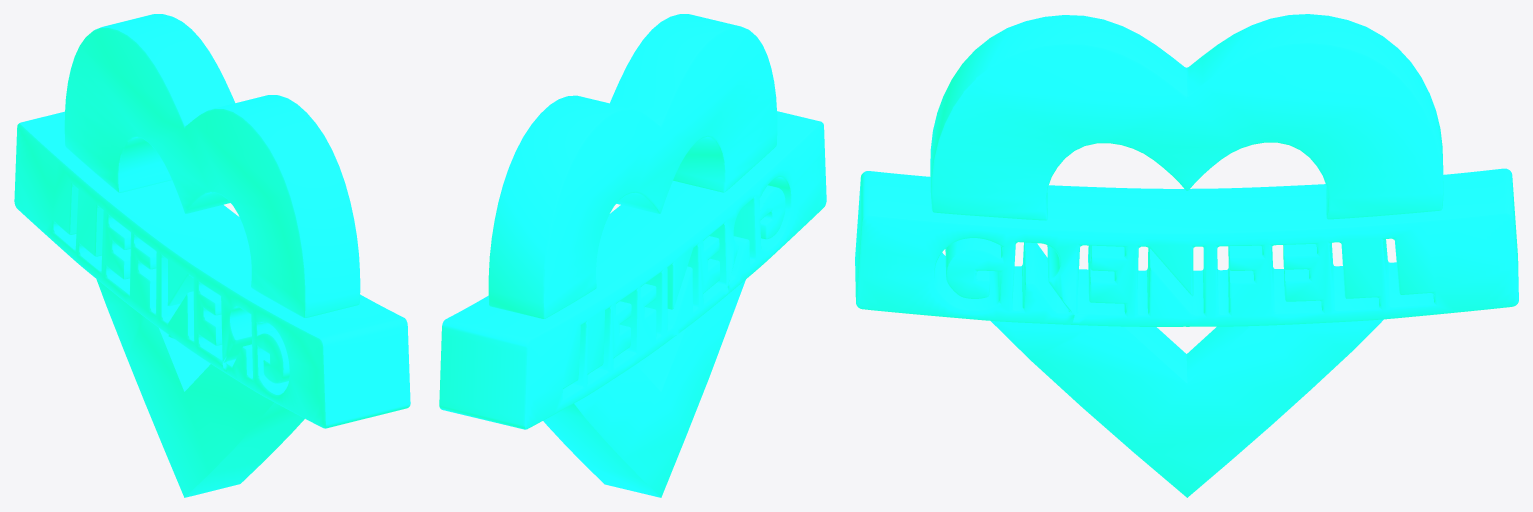
The model's file is PROFESSIONALPRACTICE3JS.glb.
3 renders of one model, left to right at view 1: azimuth 30°, elevation 25°; view 2: azimuth 150°, elevation 25°; view 3: azimuth 270°, elevation 25°, orthographic. The views are drawn at different scales.
Parts seen in each view (by area): view 1: Mesh_1.002; view 2: Mesh_1.002; view 3: Mesh_1.002.
Boxes of the visible parts, x1=… form: Mesh_1.002: x1=14, y1=14, x2=410, y2=497; Mesh_1.002: x1=439, y1=14, x2=826, y2=497; Mesh_1.002: x1=855, y1=14, x2=1518, y2=497.
Size of the model in its own units: 1.26 by 5.57 by 7.36.
